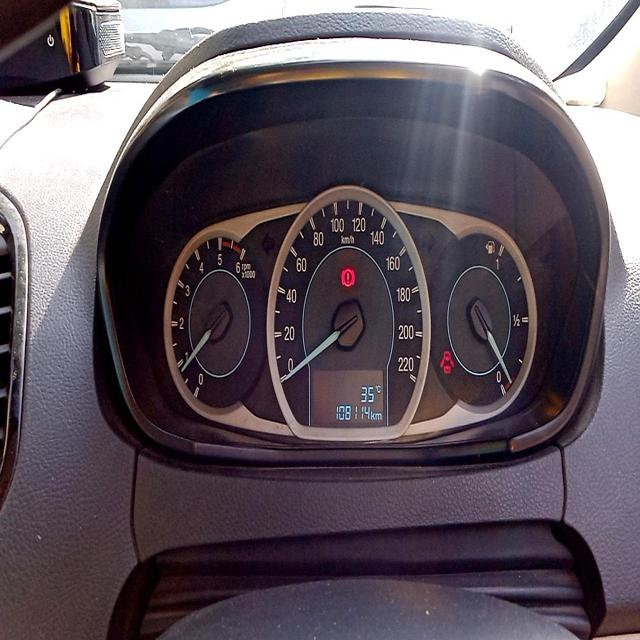odometer: (334, 402, 371, 423)
